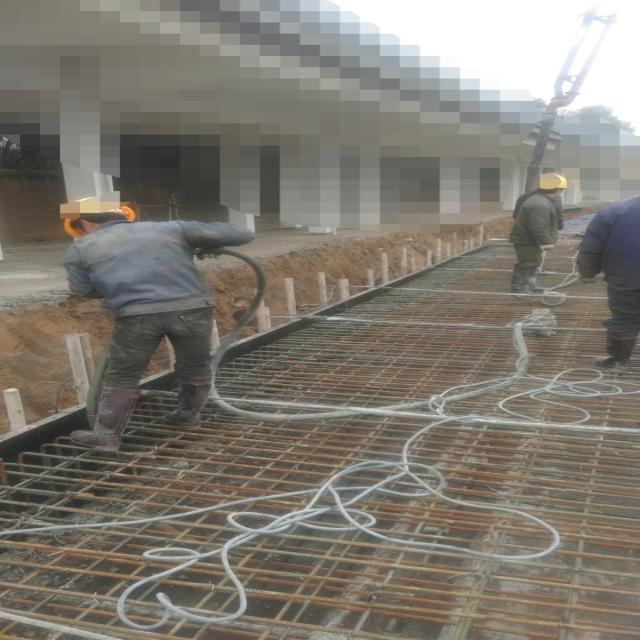truck: (524, 0, 627, 193)
